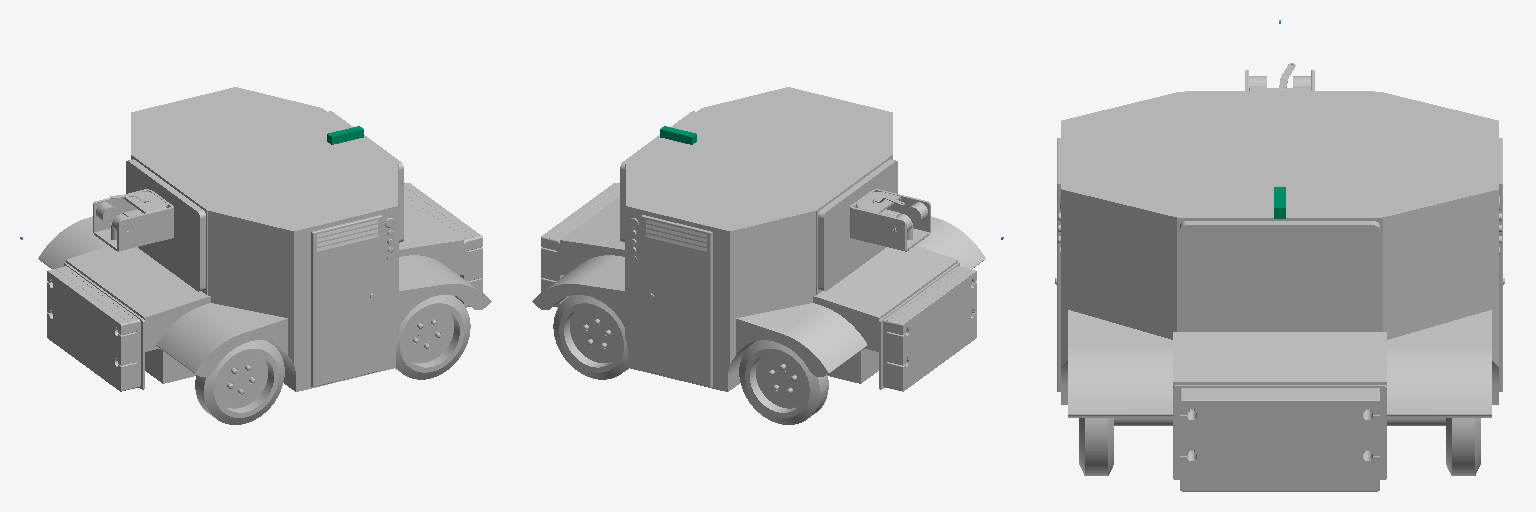
--- Render facts (derived) ---
3 views of the same robot in one strip: view 1: azimuth 30°, elevation 25°; view 2: azimuth 150°, elevation 25°; view 3: azimuth 270°, elevation 25° (orthographic).
Model shunting_vehicle with 28 links and 27 joints (2 revolute, 12 continuous, 2 prismatic, 11 fixed), rooted at base_link, posed all joints at 0.
Visible links, largest first — view 1: body_green_link, mainbody_link, couplerbase_link, rear_right_wheel_white_link, front_right_wheel_white_link, rear_right_wheel_black_link, front_right_wheel_black_link; view 2: body_green_link, mainbody_link, couplerbase_link, rear_left_wheel_white_link, front_left_wheel_white_link, rear_left_wheel_black_link, front_left_wheel_black_link; view 3: body_green_link, mainbody_link, front_right_wheel_black_link, front_left_wheel_black_link, couplerbase_link.
Link boxes in pixels (left/top/right/bottom): body_green_link: left=47, top=87, right=482, bottom=391; mainbody_link: left=38, top=211, right=491, bottom=391; couplerbase_link: left=93, top=189, right=173, bottom=251; rear_right_wheel_white_link: left=215, top=350, right=277, bottom=416; front_right_wheel_white_link: left=401, top=305, right=462, bottom=370; rear_right_wheel_black_link: left=195, top=340, right=284, bottom=424; front_right_wheel_black_link: left=395, top=295, right=470, bottom=379; body_green_link: left=541, top=87, right=976, bottom=391; mainbody_link: left=532, top=211, right=985, bottom=391; couplerbase_link: left=850, top=189, right=930, bottom=251; rear_left_wheel_white_link: left=746, top=350, right=808, bottom=416; front_left_wheel_white_link: left=561, top=305, right=622, bottom=370; rear_left_wheel_black_link: left=739, top=340, right=828, bottom=424; front_left_wheel_black_link: left=553, top=295, right=628, bottom=379; body_green_link: left=1061, top=91, right=1498, bottom=491; mainbody_link: left=1055, top=138, right=1504, bottom=417; front_right_wheel_black_link: left=1079, top=418, right=1113, bottom=475; front_left_wheel_black_link: left=1446, top=418, right=1480, bottom=475; couplerbase_link: left=1245, top=63, right=1314, bottom=90.
Size in the robot's own frame: 2.63 by 1.79 by 1.17 metres.
11 mesh visuals loaded from 7 distinct referenced files (5 Collada DAE); not drawn: 3 (reference not matched to a file when rendering).

URDF robot description (shunting_vehicle):
<?xml version="1.0"?>
<robot name="shunting_vehicle">
    
    <material name="silver">
        <color rgba=".75 .75 .875 1"/>
    </material>
    <material name="white">
        <color rgba="1 1 1 1"/>
    </material>
            
    
    <gazebo>
        <plugin name="gazebo_ros_control" filename="libgazebo_ros_control.so">
            <robotNamespace>/shunting_vehicle</robotNamespace>
        </plugin>

        <plugin name="gazebo_ros_imu_controller" filename="libgazebo_ros_imu.so">
            <robotNamespace>/shunting_vehicle</robotNamespace>
            <topicName>imu/data</topicName>
            <serviceName>imu/service</serviceName>
            <bodyName>base_link</bodyName>
            <gaussianNoise>0</gaussianNoise>
            <rpyOffsets>0 0 0</rpyOffsets>
            <updateRate>10.0</updateRate>
            <alwaysOn>true</alwaysOn>
            <gaussianNoise>0</gaussianNoise>
        </plugin>
    </gazebo>
    
    <link name="base_link">
        <collision>
            <origin rpy="0 0 0" xyz="0 0 0"/>
            <geometry>
                <box size=".01 .01 .01"/>
            </geometry>
        </collision>
        
    </link>
    
    
    <!-- _______________________________________________ Body _______________________________________________ -->
    <link name="mainbody_link">
        <visual>
            <origin xyz="0 0 -0.4" rpy="0 0 0"/>
            <geometry>
                <mesh filename="package://shunting_vehicle_description/meshes/shunting_vehicle/body_white.dae" scale="1 1 1"/>
            </geometry>
        </visual>

        <collision>
            <origin xyz="0 0 0.4" rpy="0 0 0"/>
            <geometry>
                <box size="1.2 1.8 0.9"/>
            </geometry>
        </collision>


		<collision name='front_collision'>
			<origin rpy="0 0 0" xyz="0.85 0 0.14"/>
           	<geometry>
           		<box size="0.5 0.84 0.45"/> 
       		</geometry>
       	</collision>

       	<collision name='rear_collision'>
           	<origin rpy="0 0 0" xyz="-0.85 0 0.14"/>
           	<geometry>
           		<box size="0.5 0.84 0.45"/>
       		</geometry>
        </collision>
        <inertial>
            <origin xyz="0 0 0.35" rpy="0 0 0"/>
            <mass value="3400"/>
            <inertia ixx="700" iyy="1000" izz="1200" ixy="0" ixz="0" iyz="0"/>
        </inertial>
    </link>
    <gazebo reference="mainbody_link">
        <material>Gazebo/White</material>
    </gazebo>
    
    <joint name="fixed" type="fixed">
        <parent link="base_link"/>
        <child link="mainbody_link"/>
        <origin xyz="0 0 0" rpy="0 0 0"/>
    </joint>
    
    <link name="body_green_link">
        <visual>
            <origin xyz="0 0 -0.4" rpy="0 0 0"/>
            <geometry>
                <mesh filename="package://shunting_vehicle_description/meshes/shunting_vehicle/body_green5.dae" scale="1 1 1"/>
            </geometry>
        </visual>
    </link>
    <gazebo reference="body_green_link">
        <material>Gazebo/Green</material>
    </gazebo>
    
    <joint name="body_green_fixed" type="fixed">
        <parent link="base_link"/>
        <child link="body_green_link"/>
        <origin xyz="0 0 0" rpy="0 0 0"/>
    </joint>
    
    
    <!-- _______________________________________________ Gummirad vorne rechts _______________________________________________ -->

	<link name="front_right_wheel_white_link">
        <visual>
            <origin xyz="0 0 .35" rpy="-1.570796327 0 0"/>
            <geometry>
                <mesh filename="package://shunting_vehicle_description/meshes/shunting_vehicle/wheel_white.dae" scale="1 1 1"/>
            </geometry>
        </visual>
        <collision>
            <geometry>
                <cylinder length=".7" radius=".045"/>
            </geometry>
        </collision>

        <inertial>
            <mass value="35"/>
            <inertia ixx="1.447" iyy="1.447" izz=".035" ixy="0" ixz="0" iyz="0"/>
        </inertial>
    </link>

    <gazebo reference="front_right_wheel_white_link">
        <material>Gazebo/White</material>
    </gazebo>
    
    <joint name="front_right_wheel_white_joint" type="continuous">
        <parent link="mainbody_link"/>
        <child link="front_right_wheel_white_link"/>
        <origin rpy="-1.5708 0 0" xyz="0.575 -.35 0"/>
        <limit effort="100" velocity="100" />
		<joint_properties damping="0.7"/>
		<axis xyz="0 0 1"/>
    </joint>
    
    <link name="front_right_wheel_black_link">
        <visual>
            <origin xyz="0 0 .73" rpy="-1.570796327 0 0"/>
            <geometry>
                <mesh filename="package://shunting_vehicle_description/meshes/shunting_vehicle/wheel_black.dae" scale="1 1 1"/>
            </geometry>
        </visual>
        <collision>
            <geometry>
                <cylinder length=".12" radius=".246"/>
            </geometry>
        </collision>
        <inertial>
            <mass value="30"/>
            <inertia ixx=".49" iyy=".49" izz=".91" ixy="0" ixz="0" iyz="0"/>
        </inertial>
    </link>
    <gazebo reference="front_right_wheel_black_link">
        <material>Gazebo/DarkGrey</material>
    </gazebo>
    
    <joint name="front_right_wheel_black_joint" type="fixed">
        <parent link="front_right_wheel_white_link"/>
        <child link="front_right_wheel_black_link"/>
        <origin rpy="0 0 0" xyz=".0 0 -.38"/>
    </joint>

    <!-- _______________________________________________ Gummirad vorne links _______________________________________________ -->
    

    <link name="front_left_wheel_white_link">
        <visual>
            <origin xyz="0 0 -.35" rpy="1.570796327 0 0"/>
            <geometry>
                <mesh filename="package://shunting_vehicle_description/meshes/shunting_vehicle/wheel_white.dae" scale="1 1 1"/>
            </geometry>
        </visual>
        <collision>
            <geometry>
                <cylinder length=".7" radius=".045"/>
            </geometry>
        </collision>

        <inertial>
            <mass value="35"/>
            <inertia ixx="1.447" iyy="1.447" izz=".035" ixy="0" ixz="0" iyz="0"/>
        </inertial>
    </link>

    <gazebo reference="front_left_wheel_white_link">
        <material>Gazebo/White</material>
    </gazebo>
    
    <joint name="front_left_wheel_white_joint" type="continuous">
        <parent link="mainbody_link"/>
        <child link="front_left_wheel_white_link"/>
        <origin rpy="-1.5708 0 0" xyz="0.575 .35 0"/>
        <limit effort="100" velocity="100" />
		<joint_properties damping="0.7"/>
		<axis xyz="0 0 1"/>
    </joint>
    
    <link name="front_left_wheel_black_link">
        <visual>
            <origin xyz="0 0 -.73" rpy="1.570796327 0 0"/>
            <geometry>
                <mesh filename="package://shunting_vehicle_description/meshes/shunting_vehicle/wheel_black.dae" scale="1 1 1"/>
            </geometry>
        </visual>
        <collision>
            <geometry>
                <cylinder length=".12" radius=".246"/>
            </geometry>
        </collision>
        <inertial>
            <mass value="30"/>
            <inertia ixx=".49" iyy=".49" izz=".91" ixy="0" ixz="0" iyz="0"/>
        </inertial>
    </link>
    <gazebo reference="front_left_wheel_black_link">
        <material>Gazebo/DarkGrey</material>
    </gazebo>
    
    <joint name="front_left_wheel_black_joint" type="fixed">
        <parent link="front_left_wheel_white_link"/>
        <child link="front_left_wheel_black_link"/>
        <origin rpy="0 0 0" xyz=".0 0 .38"/>
    </joint>
    
    <!-- _______________________________________________ Gummirad hinten rechts _______________________________________________ -->

	<link name="rear_right_wheel_white_link">
        <visual>
            <origin xyz="0 0 .35" rpy="-1.570796327 0 0"/>
            <geometry>
                <mesh filename="package://shunting_vehicle_description/meshes/shunting_vehicle/wheel_white.dae" scale="1 1 1"/>
            </geometry>
        </visual>
        <collision>
            <geometry>
                <cylinder length=".7" radius=".045"/>
            </geometry>
        </collision>

        <inertial>
            <mass value="35"/>
            <inertia ixx="1.447" iyy="1.447" izz=".035" ixy="0" ixz="0" iyz="0"/>
        </inertial>
    </link>

    <gazebo reference="rear_right_wheel_white_link">
        <material>Gazebo/White</material>
    </gazebo>
    
    <joint name="rear_right_wheel_white_joint" type="continuous">
        <parent link="mainbody_link"/>
        <child link="rear_right_wheel_white_link"/>
        <origin rpy="-1.5708 0 0" xyz="-0.575 -.35 0"/>
        <limit effort="100" velocity="100" />
		<joint_properties damping="0.7"/>
		<axis xyz="0 0 1"/>
    </joint>
    
    <link name="rear_right_wheel_black_link">
        <visual>
            <origin xyz="0 0 .73" rpy="-1.570796327 0 0"/>
            <geometry>
                <mesh filename="package://shunting_vehicle_description/meshes/shunting_vehicle/wheel_black.dae" scale="1 1 1"/>
            </geometry>
        </visual>
        <collision>
            <geometry>
                <cylinder length=".12" radius=".246"/>
            </geometry>
        </collision>
        <inertial>
            <mass value="30"/>
            <inertia ixx=".49" iyy=".49" izz=".91" ixy="0" ixz="0" iyz="0"/>
        </inertial>
    </link>
    <gazebo reference="rear_right_wheel_black_link">
        <material>Gazebo/DarkGrey</material>
    </gazebo>
    
    <joint name="rear_right_wheel_black_joint" type="fixed">
        <parent link="rear_right_wheel_white_link"/>
        <child link="rear_right_wheel_black_link"/>
        <origin rpy="0 0 0" xyz=".0 0 -.38"/>
    </joint>

    <!-- _______________________________________________ Gummirad hinten links _______________________________________________ -->

	<link name="rear_left_wheel_white_link">
        <visual>
            <origin xyz="0 0 -.35" rpy="1.570796327 0 0"/>
            <geometry>
                <mesh filename="package://shunting_vehicle_description/meshes/shunting_vehicle/wheel_white.dae" scale="1 1 1"/>
            </geometry>
        </visual>
        <collision>
            <geometry>
                <cylinder length=".7" radius=".045"/>
            </geometry>
        </collision>

        <inertial>
            <mass value="35"/>
            <inertia ixx="1.447" iyy="1.447" izz=".035" ixy="0" ixz="0" iyz="0"/>
        </inertial>
    </link>

    <gazebo reference="rear_left_wheel_white_link">
        <material>Gazebo/White</material>
    </gazebo>
    
    <joint name="rear_left_wheel_white_joint" type="continuous">
        <parent link="mainbody_link"/>
        <child link="rear_left_wheel_white_link"/>
        <origin rpy="-1.5708 0 0" xyz="-0.575 .35 0"/>
        <limit effort="100" velocity="100" />
		<joint_properties damping="0.7"/>
		<axis xyz="0 0 1"/>
    </joint>
    
    <link name="rear_left_wheel_black_link">
        <visual>
            <origin xyz="0 0 -.73" rpy="1.570796327 0 0"/>
            <geometry>
                <mesh filename="package://shunting_vehicle_description/meshes/shunting_vehicle/wheel_black.dae" scale="1 1 1"/>
            </geometry>
        </visual>
        <collision>
            <geometry>
                <cylinder length=".12" radius=".246"/>
            </geometry>
        </collision>
        <inertial>
            <mass value="30"/>
            <inertia ixx=".49" iyy=".49" izz=".91" ixy="0" ixz="0" iyz="0"/>
        </inertial>
    </link>
    <gazebo reference="front_left_wheel_black_link">
        <material>Gazebo/DarkGrey</material>
    </gazebo>
    
    <joint name="rear_left_wheel_black_joint" type="fixed">
        <parent link="rear_left_wheel_white_link"/>
        <child link="rear_left_wheel_black_link"/>
        <origin rpy="0 0 0" xyz=".0 0 .38"/>
    </joint>
    
    
    <!-- _______________________________________________ Spurführungsrad-Achse vorne _______________________________________________ -->    
    
   
    <link name="front_axle_link">
        <visual>
            <origin xyz="0 0 0" rpy="0 0 0"/>
            <geometry>
                <mesh filename="package://shunting_vehicle_description/meshes/shunting_vehicle/axle_black.dae" scale="1 1 1"/>
            </geometry>
        </visual>
        <collision>
            <geometry>
                <box size=".1 1.65 .1"/>
            </geometry>
        </collision>
        <inertial>
            <mass value="475"/>
            <inertia ixx="11.385" iyy=".083" izz="11.385" ixy="0" ixz="0" iyz="0"/>
        </inertial>
    </link>
    <gazebo reference="front_axle_link">
        <material>Gazebo/DarkGrey</material>
    </gazebo>
    
    <joint name="front_axle_joint" type="prismatic">
        <parent link="base_link"/>
        <child link="front_axle_link"/>
        <origin rpy="0 0 0" xyz="0.930109 0 -.026"/>
		<limit effort="100" velocity="1" lower="0" upper="0.1" />
		<joint_properties damping="0.7"/>
		<axis xyz="0 0 1"/>
    </joint>
    
    <link name="front_axle_right_wheel_link">
        <collision>
            <geometry>
                <cylinder length=".08" radius=".06"/>
            </geometry>
        </collision>
        <inertial>
            <mass value="10"/>
            <inertia ixx=".014" iyy=".014" izz=".018" ixy="0" ixz="0" iyz="0"/>
        </inertial>
    </link>
    
    <joint name="front_axle_right_wheel_joint" type="continuous">
        <parent link="front_axle_link"/>
        <child link="front_axle_right_wheel_link"/>
        <origin rpy="1.570796327 0 0" xyz="0 -.75 -.16"/>
		<limit effort="100" velocity="1" />
		<axis xyz="0 0 1"/>
    </joint>
    
    <link name="front_axle_guide_r_link">
        <inertial>
            <mass value="1"/>
            <inertia ixx=".0233333" iyy=".0233333" izz=".005" ixy="0" ixz="0" iyz="0"/>
        </inertial>
        <collision>
            <geometry>
                <cylinder length="0.06" radius=".015"/>
            </geometry>
        </collision>
    </link>
    
    <link name="front_axle_left_wheel_link">
        <collision>
            <geometry>
                <cylinder length=".08" radius=".06"/>
            </geometry>
        </collision>
        <inertial>
            <mass value="10"/>
            <inertia ixx=".014" iyy=".014" izz=".018" ixy="0" ixz="0" iyz="0"/>
        </inertial>
    </link>
    
    <joint name="front_axle_left_wheel_joint" type="continuous">
        <parent link="front_axle_link"/>
        <child link="front_axle_left_wheel_link"/>
        <origin rpy="1.570796327 0 0" xyz="0 .75 -.16"/>
		<limit effort="100" velocity="1" />
		<axis xyz="0 0 1"/>
    </joint>
    
    <gazebo reference="front_axle_guide_r_link">
        <mu1>0</mu1>
        <mu2>0</mu2>
    </gazebo>
    
    <joint name="front_axle_guide_r_joint" type="continuous">
        <parent link="front_axle_link"/>
        <child link="front_axle_guide_r_link"/>
        <origin rpy="0 0 0" xyz="0 -.698 -.23"/>
        <axis xyz="0 0 1"/>
    </joint>
    
    <link name="front_axle_guide_l_link">
        <inertial>
            <mass value="1"/>
            <inertia ixx=".0233333" iyy=".0233333" izz=".005" ixy="0" ixz="0" iyz="0"/>
        </inertial>
        <collision>
            <geometry>
                <cylinder length="0.06" radius=".015"/>
            </geometry>
        </collision>
    </link>
    
    <gazebo reference="front_axle_guide_l_link">
        <mu1>0</mu1>
        <mu2>0</mu2>
    </gazebo>
    
    <joint name="front_axle_guide_l_joint" type="continuous">
        <parent link="front_axle_link"/>
        <child link="front_axle_guide_l_link"/>
        <origin rpy="0 0 0" xyz="0 .698 -.23"/>
        <axis xyz="0 0 1"/>
    </joint>  
    
     <!-- _______________________________________________ Spurführungsrad-Achse hinten _______________________________________________ -->    
    
   
    <link name="rear_axle_link">
        <visual>
            <origin xyz="0 0 0" rpy="0 0 0"/>
            <geometry>
                <mesh filename="package://shunting_vehicle_description/meshes/shunting_vehicle/axle_black.dae" scale="1 1 1"/>
            </geometry>
        </visual>
        <collision>
            <geometry>
                <box size=".1 1.65 .1"/>
            </geometry>
        </collision>
        <inertial>
            <mass value="475"/>
            <inertia ixx="11.385" iyy=".083" izz="11.385" ixy="0" ixz="0" iyz="0"/>
        </inertial>
    </link>
    <gazebo reference="rear_axle_link">
        <material>Gazebo/DarkGrey</material>
    </gazebo>
    
    <joint name="rear_axle_joint" type="prismatic">
        <parent link="base_link"/>
        <child link="rear_axle_link"/>
        <origin rpy="0 0 3.141592654" xyz="-0.930109 0 -.026"/>
		<limit effort="100" velocity="1" lower="0" upper="0.1" />
		<joint_properties damping="0.7"/>
		<axis xyz="0 0 1"/>
    </joint>
    
    <link name="rear_axle_right_wheel_link">
        <collision>
            <geometry>
                <cylinder length=".08" radius=".06"/>
            </geometry>
        </collision>
        <inertial>
            <mass value="10"/>
            <inertia ixx=".014" iyy=".014" izz=".018" ixy="0" ixz="0" iyz="0"/>
        </inertial>
    </link>
    
    <joint name="rear_axle_right_wheel_joint" type="continuous">
        <parent link="rear_axle_link"/>
        <child link="rear_axle_right_wheel_link"/>
        <origin rpy="1.570796327 0 0" xyz="0 .75 -.16"/>
		<limit effort="100" velocity="1" />
		<axis xyz="0 0 1"/>
    </joint>
       
    <link name="rear_axle_guide_r_link">
        <inertial>
            <mass value="1"/>
            <inertia ixx=".0233333" iyy=".0233333" izz=".005" ixy="0" ixz="0" iyz="0"/>
        </inertial>
        <collision>
            <geometry>
                <cylinder length="0.06" radius=".015"/>
            </geometry>
        </collision>
    </link>
 
    <gazebo reference="rear_axle_guide_r_link">
        <mu1>0</mu1>
        <mu2>0</mu2>
    </gazebo>
    
    <joint name="rear_axle_guide_r_joint" type="continuous">
        <parent link="rear_axle_link"/>
        <child link="rear_axle_guide_r_link"/>
        <origin rpy="0 0 0" xyz="0 .698 -.23"/>
        <axis xyz="0 0 1"/>
    </joint>
    
    
    <link name="rear_axle_left_wheel_link">
        <collision>
            <geometry>
                <cylinder length=".08" radius=".06"/>
            </geometry>
        </collision>
        <inertial>
            <mass value="10"/>
            <inertia ixx=".014" iyy=".014" izz=".018" ixy="0" ixz="0" iyz="0"/>
        </inertial>
    </link>
    
    <joint name="rear_axle_left_wheel_joint" type="continuous">
        <parent link="rear_axle_link"/>
        <child link="rear_axle_left_wheel_link"/>
        <origin rpy="1.570796327 0 0" xyz="0 -.75 -.16"/>
		<limit effort="100" velocity="1" />
		<axis xyz="0 0 1"/>
    </joint>
    
    <link name="rear_axle_guide_l_link">
        <inertial>
            <mass value="1"/>
            <inertia ixx=".0233333" iyy=".0233333" izz=".005" ixy="0" ixz="0" iyz="0"/>
        </inertial>
        <collision>
            <geometry>
                <cylinder length="0.06" radius=".015"/>
            </geometry>
        </collision>
    </link>
    
    <gazebo reference="rear_axle_guide_l_link">
        <mu1>0</mu1>
        <mu2>0</mu2>
    </gazebo>
    
    <joint name="rear_axle_guide_l_joint" type="continuous">
        <parent link="rear_axle_link"/>
        <child link="rear_axle_guide_l_link"/>
        <origin rpy="0 0 0" xyz="0 -.698 -.23"/>
        <axis xyz="0 0 1"/>
    </joint> 
    
    
    <!-- _______________________________________________ Kupplung _______________________________________________ -->
    
       
    
    <link name="couplerbase_link">
        <visual>
            <origin xyz="-.724 0 .6" rpy="0 0 3.141592654"/>
            <geometry>
                <mesh filename="package://shunting_vehicle_description/meshes/shunting_vehicle/E2_Kupplung_Basis.dae" scale="1 1 1"/>
            </geometry>
        </visual>
        <inertial>
            <origin xyz="-.724 0 0.6" rpy="0 0 0"/>
            <mass value="30"/>
            <inertia ixx="1" iyy="1" izz="1" ixy="0" ixz="0" iyz="0"/>
        </inertial>
    </link>
    <gazebo reference="couplerbase_link">
        <material>Gazebo/DarkGrey</material>
    </gazebo>
    
    <joint name="body_couplerbase_joint" type="fixed">
        <parent link="mainbody_link"/>
        <child link="couplerbase_link"/>
    </joint>
    
    <link name="couplermouth_link">
        <visual>
            <origin xyz="0 0 0" rpy="0 0 3.141592654"/>
            <geometry>
                <mesh filename="package://shunting_vehicle_description/meshes/shunting_vehicle/E2_Kupplung_Maul.dae" scale="1 1 1"/>
            </geometry>
        </visual>

        <inertial>
            <origin xyz="0 0 .1445" rpy="0 0 0"/>
            <mass value="40"/>
            <inertia ixx="0.5" iyy=".5" izz=".8" ixy="0" ixz="0" iyz="0"/>
        </inertial>
    </link>
    <gazebo reference="couplermouth_link">
        <material>Gazebo/Yellow</material>
    </gazebo>
    
    <joint name="couplerbase_couplermouth_joint" type="revolute">
        <parent link="couplerbase_link"/>
        <child link="couplermouth_link"/>
        <origin rpy="0 0 0" xyz="-.724 0 .6"/>
        <limit lower="-.15" upper=".15" effort="1.0" velocity="0.5"/>
        <axis xyz="0 0 1"/>
    </joint>    
    
     <link name="coupler_link">

        <collision name='coupling_collision'>
            <origin xyz="0 0 0" rpy="0 0 0"/>
            <geometry>
                <box size="1.0 0.3 .3"/>
            </geometry>
		</collision>
        <inertial>
            	<origin xyz="0 0 .1445" rpy="0 0 0"/>
            	<mass value="40"/>
            <inertia ixx="0.5" iyy=".5" izz=".8" ixy="0" ixz="0" iyz="0"/>
        </inertial>
        
     </link>

    
    <joint name="coupler_link_joint" type="revolute">
        <parent link="mainbody_link"/>
        <child link="coupler_link"/>
        <origin rpy="0 0 0" xyz="-1 0 .7"/>
        <limit lower="-.25" upper=".25" effort="1.0" velocity="0.5"/>
        <axis xyz="0 0 1"/>
    </joint>   
  <!-- _______________________________________________ Sensorik _______________________________________________ -->
      
	<link name="front_laser_link">
    	<collision>
    	  <origin rpy="0 0 0" xyz="0 0 0"/>
    	  <geometry>
    	    <box size="0.01 0.01 0.01"/>
    	  </geometry>
    	</collision>
    	<visual>
    	  <origin rpy="0 0 0" xyz="0 0 0"/>
    	  <geometry>
    	    <box size="0.01 0.01 0.01"/>
    	  </geometry>
    	</visual>
    	<inertial>
    	  <mass value="1e-5"/>
    	  <origin rpy="0 0 0" xyz="0 0 0"/>
    	  <inertia ixx="1e-6" ixy="0" ixz="0" iyy="1e-6" iyz="0" izz="1e-6"/>
    	</inertial>
  	</link>
  	<joint name="front_laser_joint" type="fixed">
    	<axis xyz="0 1 0"/>
    	<origin rpy="0 0 0" xyz="1.105 0  0.25"/>
    	<parent link="base_link"/>
    	<child link="front_laser_link"/>
  	</joint>
  	<gazebo reference="front_laser_link">
    	<mu1>0</mu1>
    	<mu2>0</mu2>
    	<material>Gazebo/Red</material>
    	<sensor name="front_laser_sensor" type="ray">
    	  <pose>0 0 0 0 0 0</pose>
    	  <visualize>false</visualize>
    	  <update_rate>40</update_rate>
    	  <ray>
    	    <scan>
    	      <horizontal>
    	        <samples>720</samples>
    	        <resolution>1</resolution>
    	        <min_angle>-1.570796</min_angle>
    	        <max_angle>1.570796</max_angle>
    	      </horizontal>
    	    </scan>
    	    <range>
    	      <min>0.010</min>
    	      <max>30.0</max>
    	      <resolution>0.01</resolution>
    	    </range>
    	    <noise>
    	      <type>gaussian</type>
    	      <!--Noise parameters based on published spec for Hokuyo laser
								achieving "+-30mm" accuracy at range < 10m.  A mean of 0.0m and
								stddev of 0.01m will put 99.7% of samples within 0.03m of the true
								reading.-->
    	      <mean>0.0</mean>
    	      <stddev>0.01</stddev>
    	    </noise>
    	  </ray>
    	  <plugin filename="libgazebo_ros_laser.so" name="gazebo_ros_front_laser_controller">
    	    <topicName>/shunting_vehicle/laser/front/scan</topicName>
    	    <frameName>front_laser_link</frameName>
    	  </plugin>
    	</sensor>
  	</gazebo>
  	<link name="rear_laser_link">
    	<collision>
    	  <origin rpy="0 0 0" xyz="0 0 0"/>
    	  <geometry>
    	    <box size="0.01 0.01 0.01"/>
    	  </geometry>
    	</collision>
    	<visual>
    	  <origin rpy="0 0 0" xyz="0 0 0"/>
    	  <geometry>
    	    <box size="0.01 0.01 0.01"/>
    	  </geometry>
    	</visual>
    	<inertial>
    	  <mass value="1e-5"/>
    	  <origin rpy="0 0 0" xyz="0 0 0"/>
    	  <inertia ixx="1e-6" ixy="0" ixz="0" iyy="1e-6" iyz="0" izz="1e-6"/>
    	</inertial>
  	</link>
  	<joint name="rear_laser_joint" type="fixed">
    	<axis xyz="0 1 0"/>
    	<origin rpy="0 0 3.141592" xyz="-0.78 0  0.15"/>
    	<parent link="couplermouth_link"/>
    	<child link="rear_laser_link"/>
  	</joint>
  	<gazebo reference="rear_laser_link">
    	<mu1>0</mu1>
    	<mu2>0</mu2>
    	<material>Gazebo/Red</material>
    	<sensor name="rear_laser_sensor" type="ray">
      		<pose>0 0 0 0 0 0</pose>
      		<visualize>false</visualize>
      		<update_rate>40</update_rate>
      		<ray>
       	 		<scan>
        			<horizontal>
        				<samples>720</samples>
        				<resolution>1</resolution>
        				<min_angle>-1.570796</min_angle>
        				<max_angle>1.570796</max_angle>
        		  	</horizontal>
        		</scan>
        		<range>
        	  		<min>0.010</min>
        	  		<max>30.0</max>
        	  	<resolution>0.01</resolution>
        		</range>
        		<noise>
        	  		<type>gaussian</type>
        	  		<!--Noise parameters based on published spec for Hokuyo laser
								achieving "+-30mm" accuracy at range < 10m.  A mean of 0.0m and
								stddev of 0.01m will put 99.7% of samples within 0.03m of the true
								reading.-->
        	  	<mean>0.0</mean>
        	  	<stddev>0.01</stddev>
        		</noise>
      		</ray>
      		<plugin filename="libgazebo_ros_laser.so" name="gazebo_ros_rear_laser_controller">
        		<topicName>/shunting_vehicle/laser/rear/scan</topicName>
        		<frameName>rear_laser_link</frameName>
      		</plugin>
    	</sensor>
  	</gazebo>

	<link name="camera_link">
		<!-- Inertial for gazebo to take it into account, Put 1gr weight -->
		<inertial>
			<origin xyz="0 0 0" rpy="0 0 0"/>
			<mass value="0.001" />
			<inertia ixx="9.1875e-09" ixy="0.0" ixz="0.0" iyy="9.1875e-09" iyz="0.0" izz="1.378125e-08"/>
		</inertial>
		<visual>
			<origin rpy="0 0 0" xyz="-0.1 0 0"/>
			<geometry>
				<box size="0.2 0.05 0.05"/>
			</geometry>
		</visual>
	</link>

	<link name="camera_frame_optical"/>

	<joint name="camera_optical_joint" type="fixed">
			<origin xyz="0 0 0" rpy="-1.5708 0 -1.5708"/>
			<parent link="camera_link"/>
			<child link="camera_frame_optical"/>
	</joint>

	<gazebo reference="camera_link">
		
		<mu1>0</mu1>
		<mu2>0</mu2>
		<material>Gazebo/Red</material>
		<sensor type="depth" name="camera">
			<update_rate>30.0</update_rate>
			<camera name="head">
				<pose>0 0 0 0 0 0</pose>
				<horizontal_fov>1.3962634</horizontal_fov>
				<image>
					<width>1024</width>
					<height>768</height>
					<format>R8G8B8</format>
				</image>
				<clip>
					<near>0.05</near>
					<far>200</far>
				</clip>
				<noise>
					<type>gaussian</type>
					<stddev>0.007</stddev>
				</noise>
			</camera>
			<plugin name="camera_plugin" filename="libgazebo_ros_openni_kinect.so">
				<baseline>0.2</baseline>
				<alwaysOn>true</alwaysOn>
				<!-- Keep this zero, update_rate in the parent <sensor> tag
				will control the frame rate. -->
				<updateRate>0.0</updateRate>
				<cameraName>shunting_vehicle/camera</cameraName>
				<imageTopicName>/camera/color/image_raw</imageTopicName>
				<cameraInfoTopicName>/camera/color/camera_info</cameraInfoTopicName>
				<depthImageTopicName>/camera/depth/image_raw</depthImageTopicName>
				<depthImageCameraInfoTopicName>/camera/depth/camera_info</depthImageCameraInfoTopicName>
				<pointCloudTopicName>/camera/depth/points</pointCloudTopicName>
				<frameName>camera_frame_optical</frameName>
				<pointCloudCutoff>0.05</pointCloudCutoff>
				<pointCloudCutoffMax>30.0</pointCloudCutoffMax>
				<distortionK1>0</distortionK1>
				<distortionK2>0</distortionK2>
				<distortionK3>0</distortionK3>
				<distortionT1>0</distortionT1>
				<distortionT2>0</distortionT2>
				<CxPrime>0</CxPrime>
				<Cx>0</Cx>
				<Cy>0</Cy>
				<focalLength>0</focalLength>
				<hackBaseline>0</hackBaseline>
			</plugin>
		</sensor>
	</gazebo>

    <joint name="base_camera_joint" type="fixed">
        <parent link="base_link"/>
        <child link="camera_link"/>
        <origin rpy="0 0 0" xyz="0.6 0 0.89"/>
    </joint>


<!-- _______________________________________________ Driver _______________________________________________ -->

	<gazebo>
		<plugin name="skid_steer_drive_controller" filename="libgazebo_ros_skid_steer_drive.so">
			<updateRate>100.0</updateRate>
			<leftFrontJoint>front_left_wheel_white_joint</leftFrontJoint>
			<rightFrontJoint>front_right_wheel_white_joint</rightFrontJoint>
			<leftRearJoint>rear_left_wheel_white_joint</leftRearJoint>
			<rightRearJoint>rear_left_wheel_white_joint</rightRearJoint>
			<MaxForce>50</MaxForce>
			<robotBaseFrame>base_link</robotBaseFrame>
			<robotNamespace>/</robotNamespace>
			<torque>1000</torque>
			<commandTopic>cmd_vel</commandTopic>
			<odometryTopic>odom</odometryTopic>
			<odometryFrame>odom</odometryFrame>
			<broadcastTF>true</broadcastTF>
			<wheelSeparation>1.15</wheelSeparation>
			<wheelDiameter>0.492</wheelDiameter>
			<covariance_x>0.00001</covariance_x>
			<covariance_y>0.00001</covariance_y>
			<covariance_yaw>0.01</covariance_yaw>
		</plugin>
	</gazebo>
</robot>
